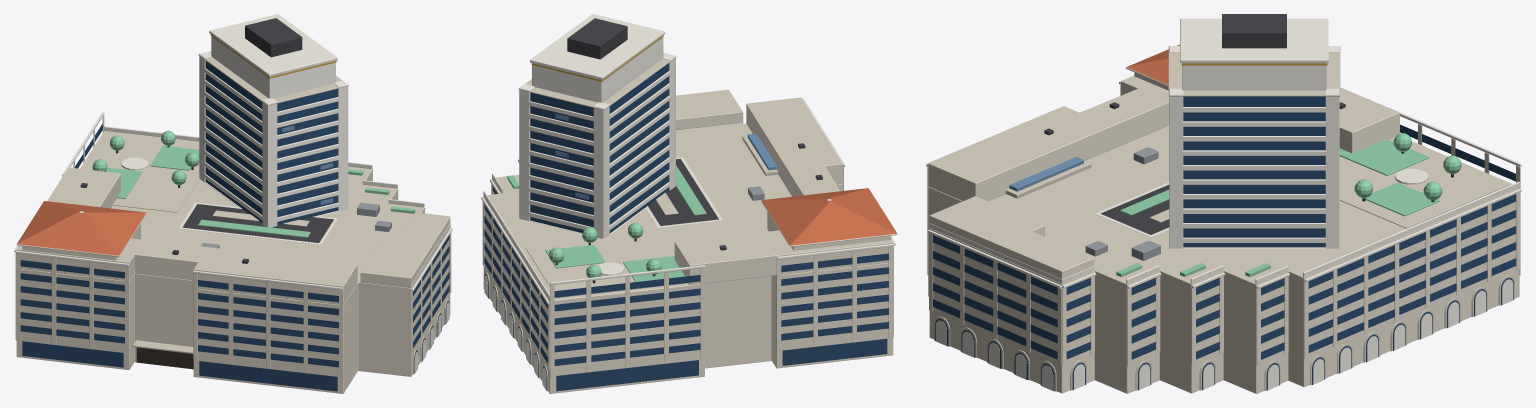
Rendered from 345-spear.glb.
The picture shows the model from 3 angles, left to right: view 1: azimuth 30°, elevation 25°; view 2: azimuth 150°, elevation 25°; view 3: azimuth 270°, elevation 25°; orthographic projection. The views are drawn at different scales.
Parts seen in each view (by area): view 1: body, upper_bar, twr_core, pav_hip, garden_deck, se_wing, twr_par, twr_set, store_4, court_panel, twr_pier_-1_-1, twr_mech (+46 smaller); view 2: body, upper_bar, twr_core, pav_hip, garden_deck, twr_par, twr_set, store_17, se_wing, twr_pier_-1_1, twr_mech, store_21 (+49 smaller); view 3: body, upper_bar, twr_core, se_wing, garden_deck, twr_par, twr_set, twr_mech, twr_pier_1_1, twr_pier_1_-1, twr_roof, garden_lawn1 (+31 smaller).
Part boxes in pixels (box(x1,y1,x2,y2)): body: box(16, 130, 450, 393); upper_bar: box(16, 167, 357, 304); twr_core: box(205, 61, 337, 225); pav_hip: box(17, 201, 146, 255); garden_deck: box(84, 133, 199, 212); se_wing: box(360, 212, 450, 287); twr_par: box(209, 14, 337, 76); twr_set: box(211, 36, 335, 98); store_4: box(199, 361, 337, 391); court_panel: box(182, 204, 333, 242); twr_pier_-1_-1: box(262, 98, 277, 227); twr_mech: box(245, 18, 302, 57); body: box(483, 122, 893, 393); upper_bar: box(674, 97, 893, 284); twr_core: box(530, 63, 668, 233); pav_hip: box(761, 188, 897, 245); garden_deck: box(525, 228, 695, 297); twr_par: box(530, 14, 665, 79); twr_set: box(532, 37, 663, 102); store_17: box(556, 360, 698, 391); se_wing: box(676, 89, 743, 129); twr_pier_-1_1: box(593, 102, 609, 238); twr_mech: box(567, 18, 627, 59); store_21: box(782, 338, 887, 365); body: box(928, 125, 1519, 393); upper_bar: box(928, 76, 1399, 201); twr_core: box(1183, 96, 1325, 247); se_wing: box(929, 196, 1094, 278); garden_deck: box(1339, 137, 1508, 228); twr_par: box(1180, 18, 1328, 62); twr_set: box(1182, 63, 1326, 90); twr_mech: box(1222, 14, 1286, 48); twr_pier_1_1: box(1325, 88, 1339, 248); twr_pier_1_-1: box(1169, 88, 1183, 248); twr_roof: box(1168, 46, 1340, 96); garden_lawn1: box(1339, 139, 1429, 175).
Bounding box in the file's own units: 106 × 68.5 × 119.
